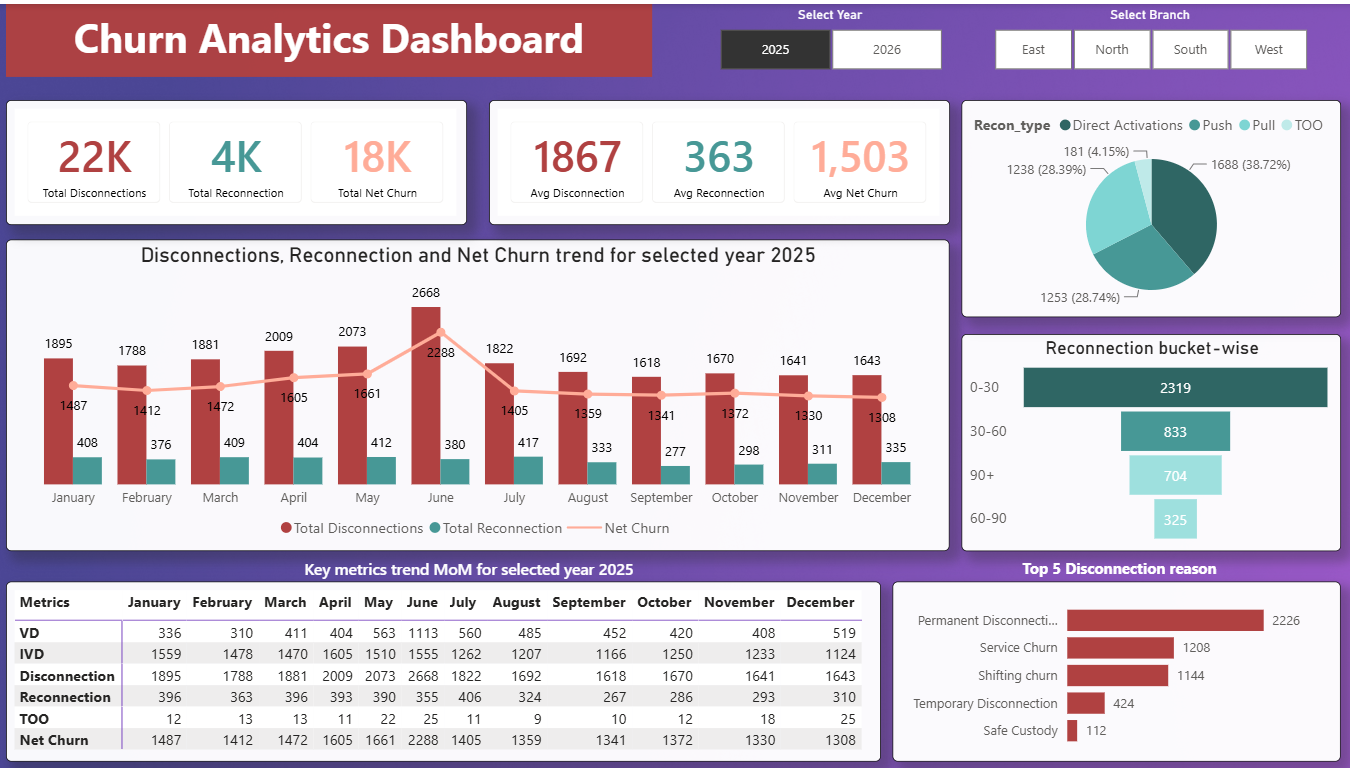

The page's visual inventory and layout, read from the dashboard file:
{"tool":"powerbi","page":{"name":"Dashboard","canvas":[1280,720],"ordinal":0},"visuals":[{"type":"pivotTable","fields":{"Rows":["Key Metrics.Particulars"],"Values":["Key Measures.Key Metrics Values"],"Columns":["Month Table.Month.Variation.Date Hierarchy.Month"]},"box":[22.7,539.1,816.2,168.1],"z":0},{"type":"slicer","title":"Select Year","fields":{"Values":["Month Table.Month.Variation.Date Hierarchy.Year"]},"box":[663.2,3,255.9,65.1],"z":1000},{"type":"lineClusteredColumnComboChart","fields":{"Y":["Key Measures.Total Disconnections","Key Measures.Total Reconnection"],"Y2":["Key Measures.Net Churn"],"Category":["Month Table.Month.Variation.Date Hierarchy.Month"]},"box":[22.7,219.6,879.8,290.7],"z":2000},{"type":"textbox","box":[22.7,0,602.7,68.1],"z":3000},{"type":"cardVisual","fields":{"Data":["Key Measures.Total Disconnections","Key Measures.Total Reconnection","Key Measures.Net Churn"]},"box":[22.7,89.3,430,116.6],"z":4000},{"type":"cardVisual","fields":{"Data":["Key Measures.Avg Disconnection","Key Measures.Avg Reconnection","Key Measures.Avg Net Churn"]},"box":[472.4,89.3,430,116.6],"z":5000},{"type":"clusteredBarChart","title":"Top 5 Disconnection Reason","fields":{"Category":["Processed Data Discon.DISCONNECTIONREASON"],"Y":["CountNonNull(Processed Data Discon.DISCONNECTIONREASON)"]},"box":[849.5,539.1,417.9,168.1],"z":6000},{"type":"funnel","title":"Reconnection bucket-wise","fields":{"Category":["Processed Data Reconn.bucket"],"Y":["CountNonNull(Processed Data Reconn.bucket)"]},"box":[913.1,307.4,354.3,202.9],"z":7000},{"type":"pieChart","fields":{"Category":["Processed Data Reconn.reccon_type"],"Y":["CountNonNull(Processed Data Reconn.reccon_type)"]},"box":[913.1,89.3,354.3,202.9],"z":8000},{"type":"textbox","box":[861.6,510.3,398.2,28.8],"z":9000},{"type":"slicer","title":"Select Branch","fields":{"Values":["Branch Table.Branch"]},"box":[919.1,3,340.7,65.1],"z":10000},{"type":"cardVisual","fields":{"Data":["Key Measures.Title for Key Metrics"]},"box":[107.5,490.6,693.5,68.1],"z":11000}]}

Visuals, with their boxes in screenshot pixels (x1, y1, x2, y2), scaled from the page's 1280x720 canvas onto the 1350x768 screenshot:
pivotTable - Key Metrics.Particulars x Key Measures.Key Metrics Values: <region>24, 575, 885, 754</region>
"Select Year" slicer: <region>699, 3, 969, 73</region>
lineClusteredColumnComboChart - Key Measures.Total Disconnections x Key Measures.Total Reconnection: <region>24, 234, 952, 544</region>
textbox: <region>24, 0, 660, 73</region>
cardVisual - Key Measures.Total Disconnections x Key Measures.Total Reconnection: <region>24, 95, 477, 220</region>
cardVisual - Key Measures.Avg Disconnection x Key Measures.Avg Reconnection: <region>498, 95, 952, 220</region>
"Top 5 Disconnection Reason" clusteredBarChart: <region>896, 575, 1337, 754</region>
"Reconnection bucket-wise" funnel: <region>963, 328, 1337, 544</region>
pieChart - Processed Data Reconn.reccon_type x CountNonNull(Processed Data Reconn.reccon_type): <region>963, 95, 1337, 312</region>
textbox: <region>909, 544, 1329, 575</region>
"Select Branch" slicer: <region>969, 3, 1329, 73</region>
cardVisual - Key Measures.Title for Key Metrics: <region>113, 523, 845, 596</region>
